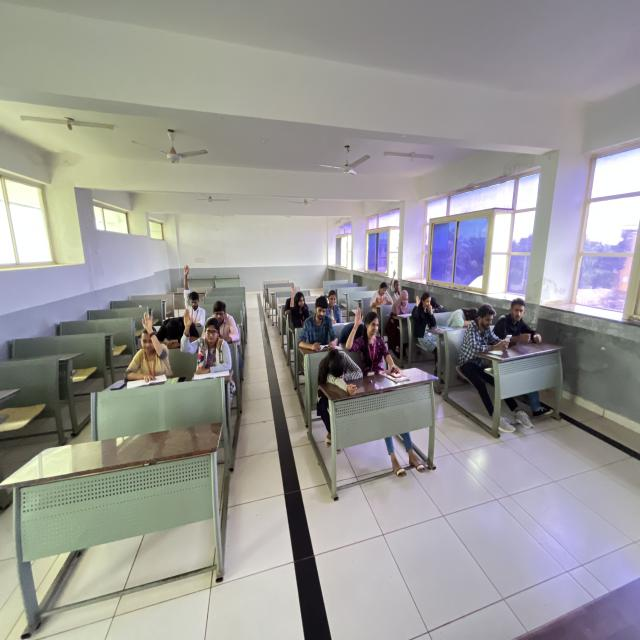Hand Rising: (180, 306, 233, 377), (123, 309, 171, 373), (347, 304, 388, 358), (177, 261, 209, 323), (156, 308, 184, 351), (286, 279, 310, 320), (412, 294, 432, 328), (389, 267, 403, 300)
Reading: (300, 295, 337, 351)
Sleeping: (307, 342, 361, 393), (446, 302, 478, 331)
Using Phone: (465, 300, 513, 352)
